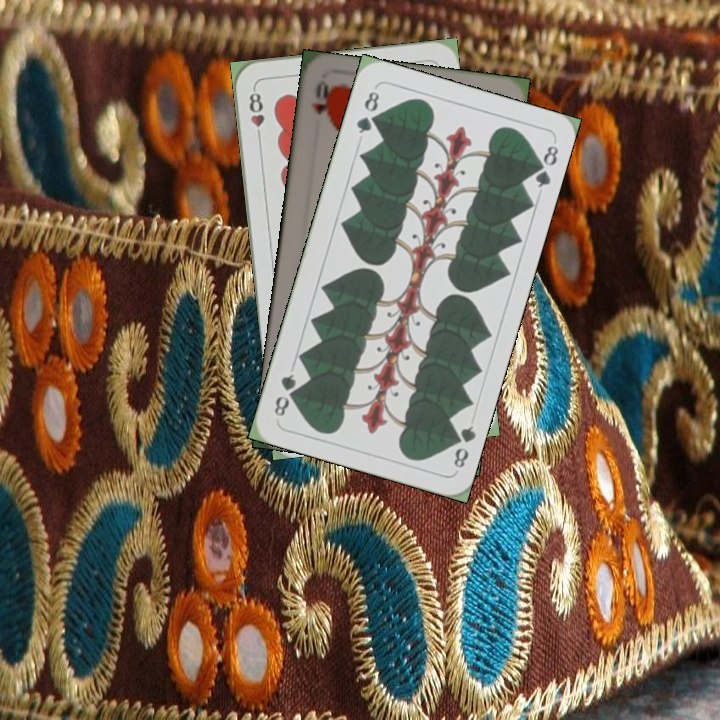G8: (447, 421, 479, 471), (352, 84, 382, 136)
H8: (245, 84, 267, 143)
HO: (307, 77, 333, 117)
